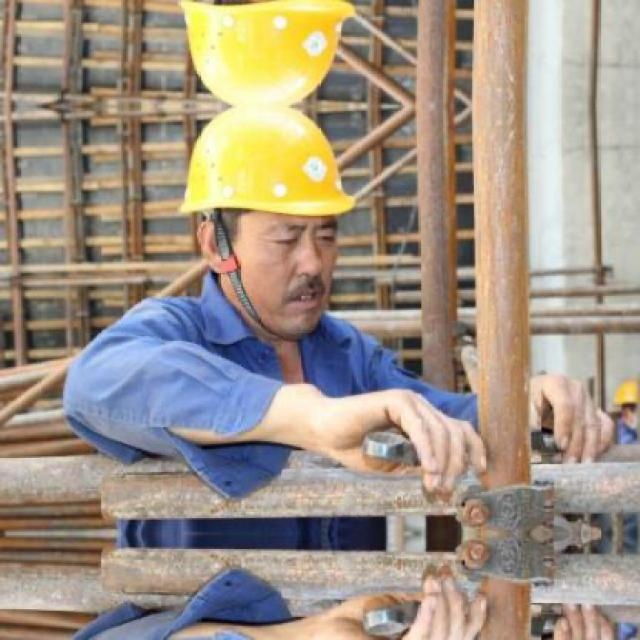helmet: (160, 106, 374, 342), (158, 0, 374, 108)
